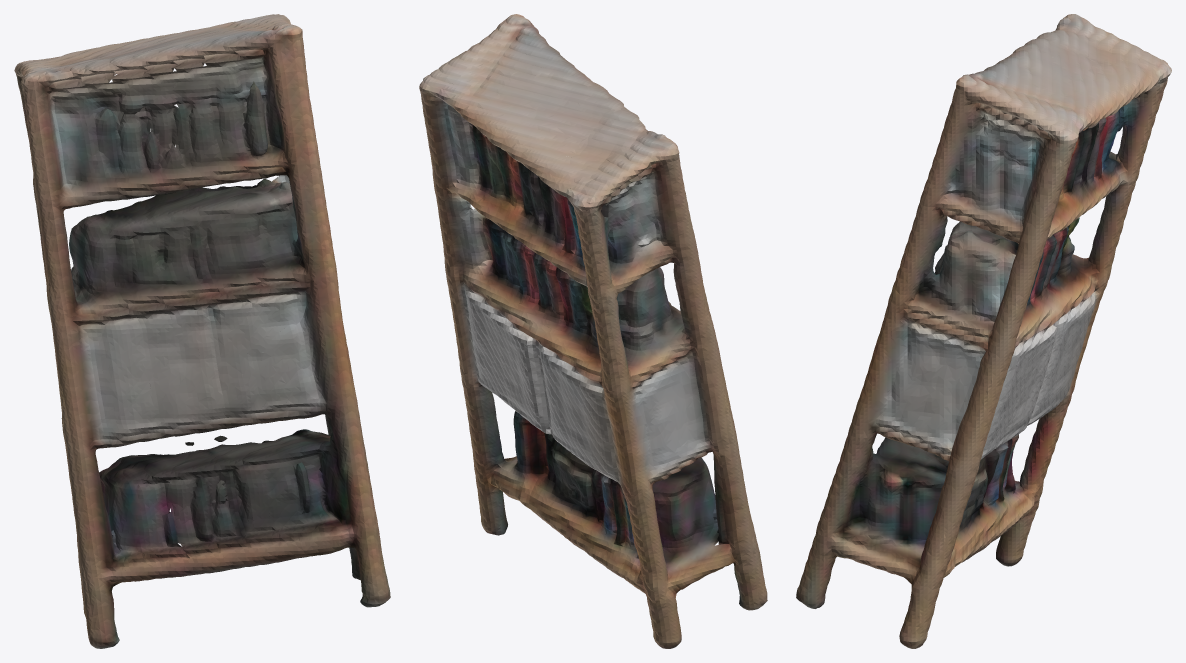
File: bookshelf.glb
The picture shows the model from 3 angles, left to right: view 1: azimuth 30°, elevation 25°; view 2: azimuth 150°, elevation 25°; view 3: azimuth 270°, elevation 25°; orthographic projection.
Parts seen in each view (by area): view 1: geometry_0; view 2: geometry_0; view 3: geometry_0.
Boxes of the visible parts, x1=… form: geometry_0: x1=14, y1=14, x2=390, y2=648; geometry_0: x1=419, y1=14, x2=767, y2=648; geometry_0: x1=796, y1=14, x2=1171, y2=648.
Bounding box in the file's own units: 0.5617 × 1.07 × 0.6404.
